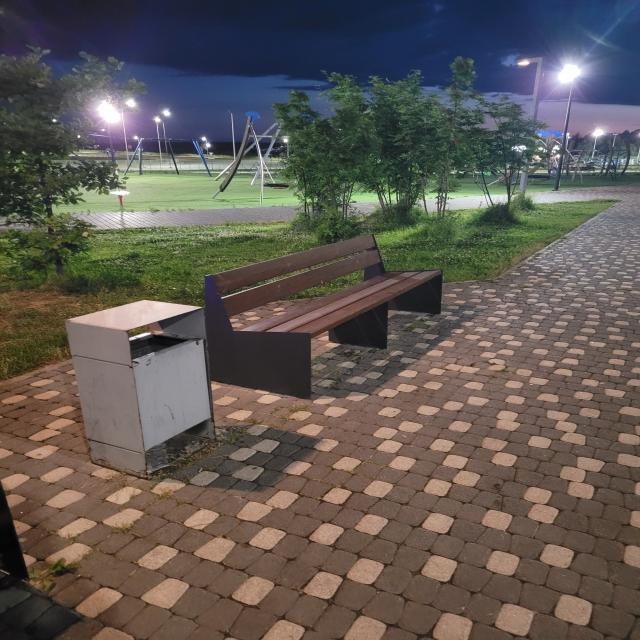Bench: (206, 233, 442, 399)
